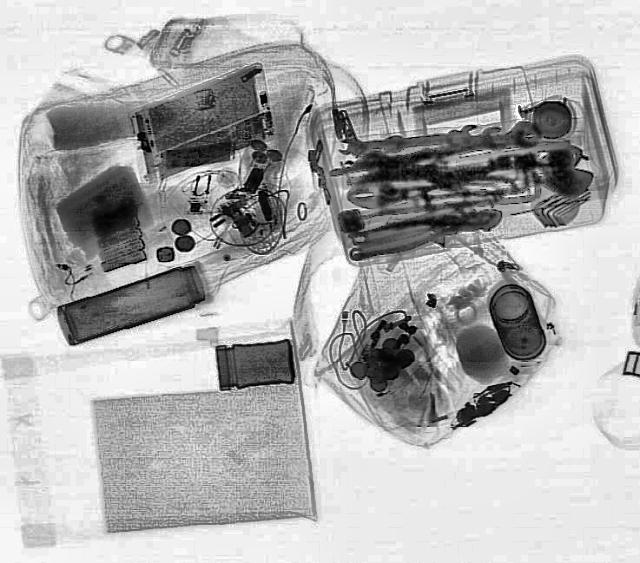Pliers: (344, 201, 504, 259)
Wrench: (337, 120, 479, 158), (410, 124, 506, 167)
